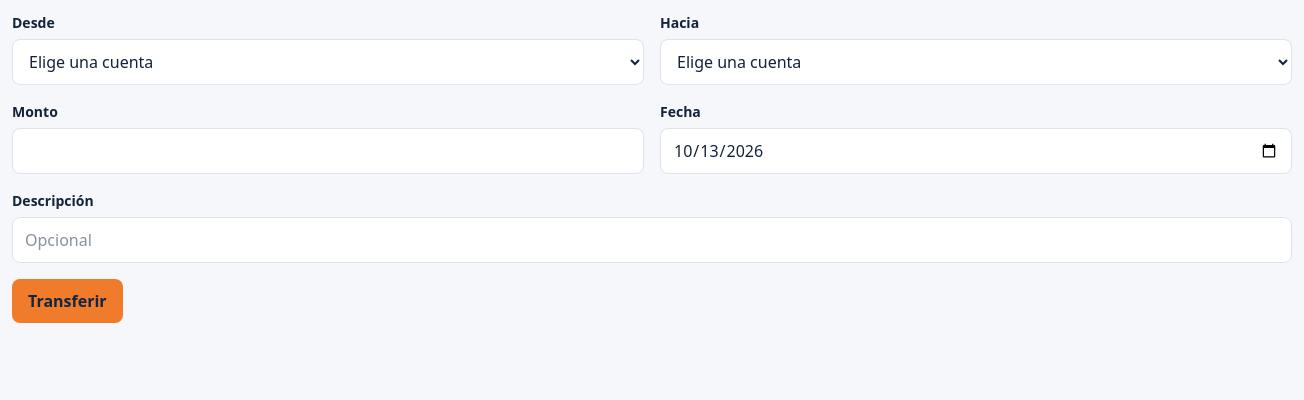
Test: transfer form posts strings and shows backend error
This screenshot has width=1304, height=400.
Select "Banco ($ 900.000)" in the dropdown labelled "Desde" at point(328, 62), box [12,39,644,85]
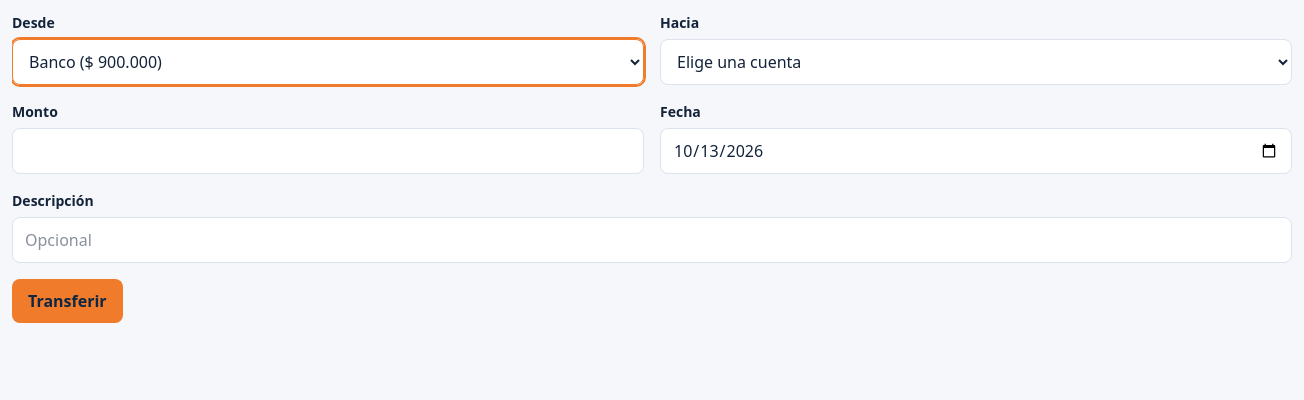
Select "Nequi ($ 0)" in the dropdown labelled "Hacia" at point(976, 62), box [660,39,1292,85]
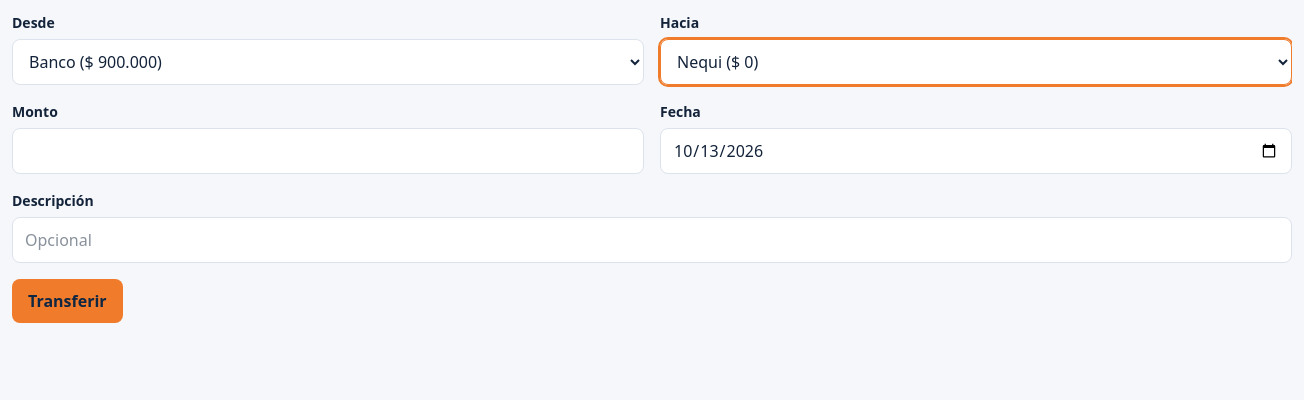
Type "300000" into the field labelled "Monto" at point(328, 151), box [12,128,644,174]
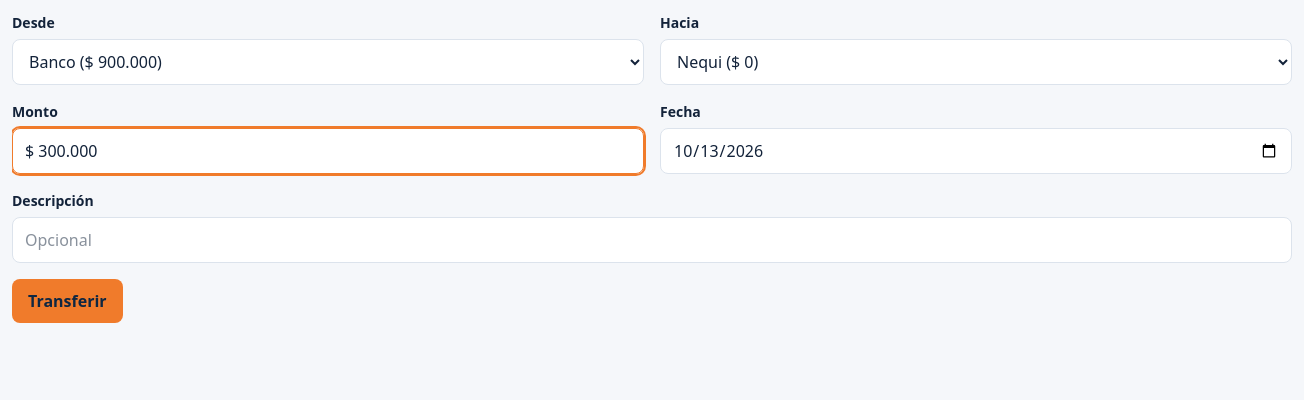
Click the button "Transferir" at point(67, 301), box [12,279,123,323]
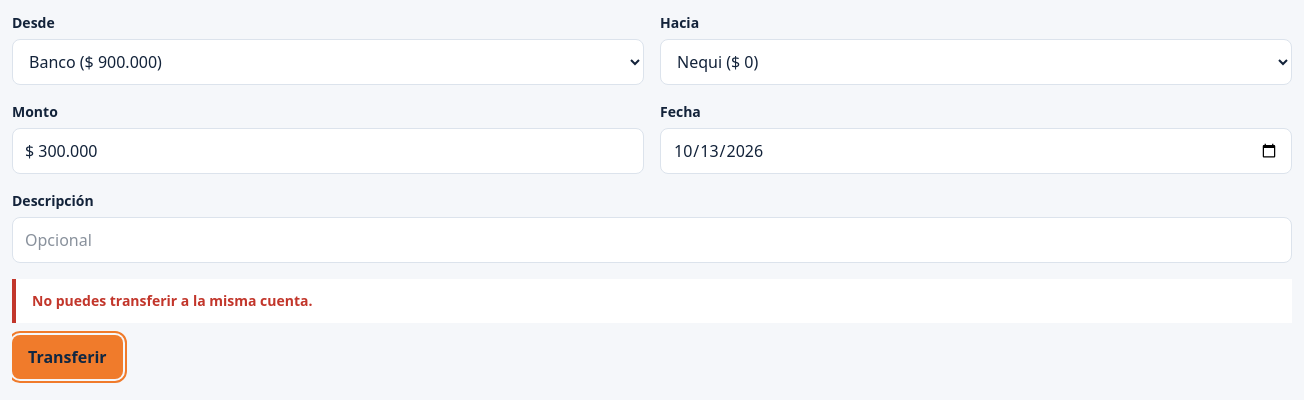
Expected: the field labelled "Monto" holds "$ 300.000", [12,128,644,174]
Expected: the text "No puedes transferir a la misma cuenta." is shown, [32,291,312,310]
